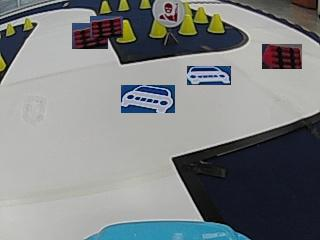evil: (153, 0, 184, 26)
